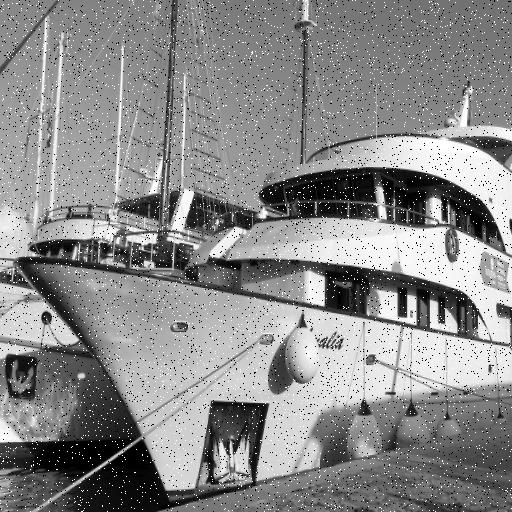cruises: (4, 81, 512, 510)
